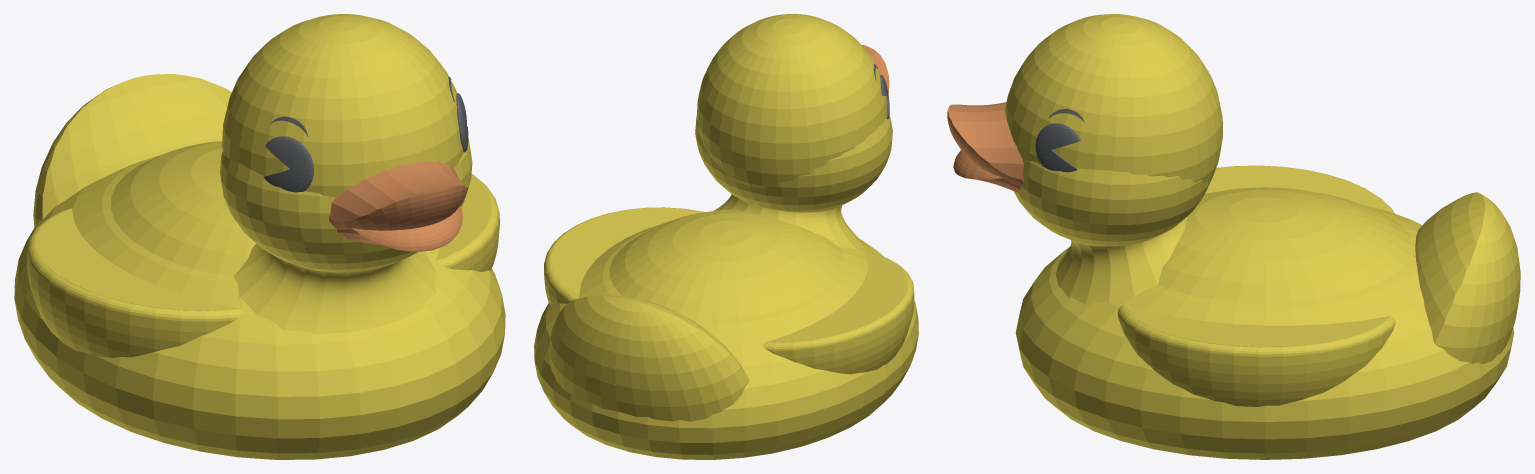
The model's file is duck.glb.
The picture shows the model from 3 angles, left to right: view 1: azimuth 30°, elevation 25°; view 2: azimuth 150°, elevation 25°; view 3: azimuth 270°, elevation 25°; orthographic projection. The views are drawn at different scales.
Parts seen in each view (by area): view 1: Mesh_Mesh_head_geo.001_lambert2SG.001; view 2: Mesh_Mesh_head_geo.001_lambert2SG.001; view 3: Mesh_Mesh_head_geo.001_lambert2SG.001.
Part boxes in pixels (bbox=[...]): Mesh_Mesh_head_geo.001_lambert2SG.001: bbox=[14, 14, 505, 459]; Mesh_Mesh_head_geo.001_lambert2SG.001: bbox=[534, 14, 918, 459]; Mesh_Mesh_head_geo.001_lambert2SG.001: bbox=[947, 14, 1520, 459].
Bounding box in the file's own units: 46.02 × 40.77 × 59.45.
